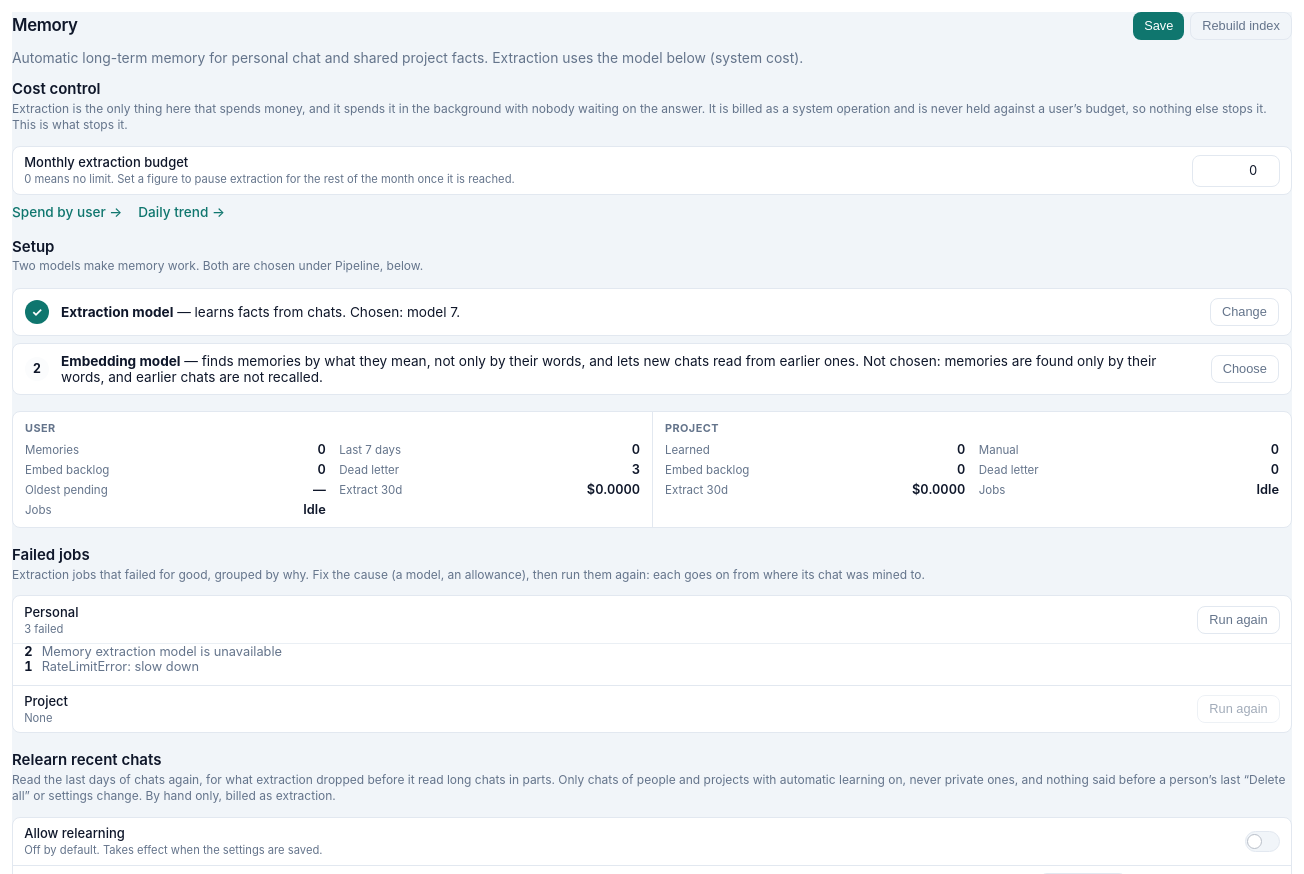
Scenario: the failed jobs › says why they failed and runs a scope's jobs again
Expected: the button "Run again" in the row of "None" is disabled, top-left (1197, 695), bottom-right (1280, 723)
What coordinates should you click on to do the following:
click the button "Run again" in the row of "3 failed"
I would click on:
 (1238, 620)
Its box is top-left (1197, 606), bottom-right (1280, 634).
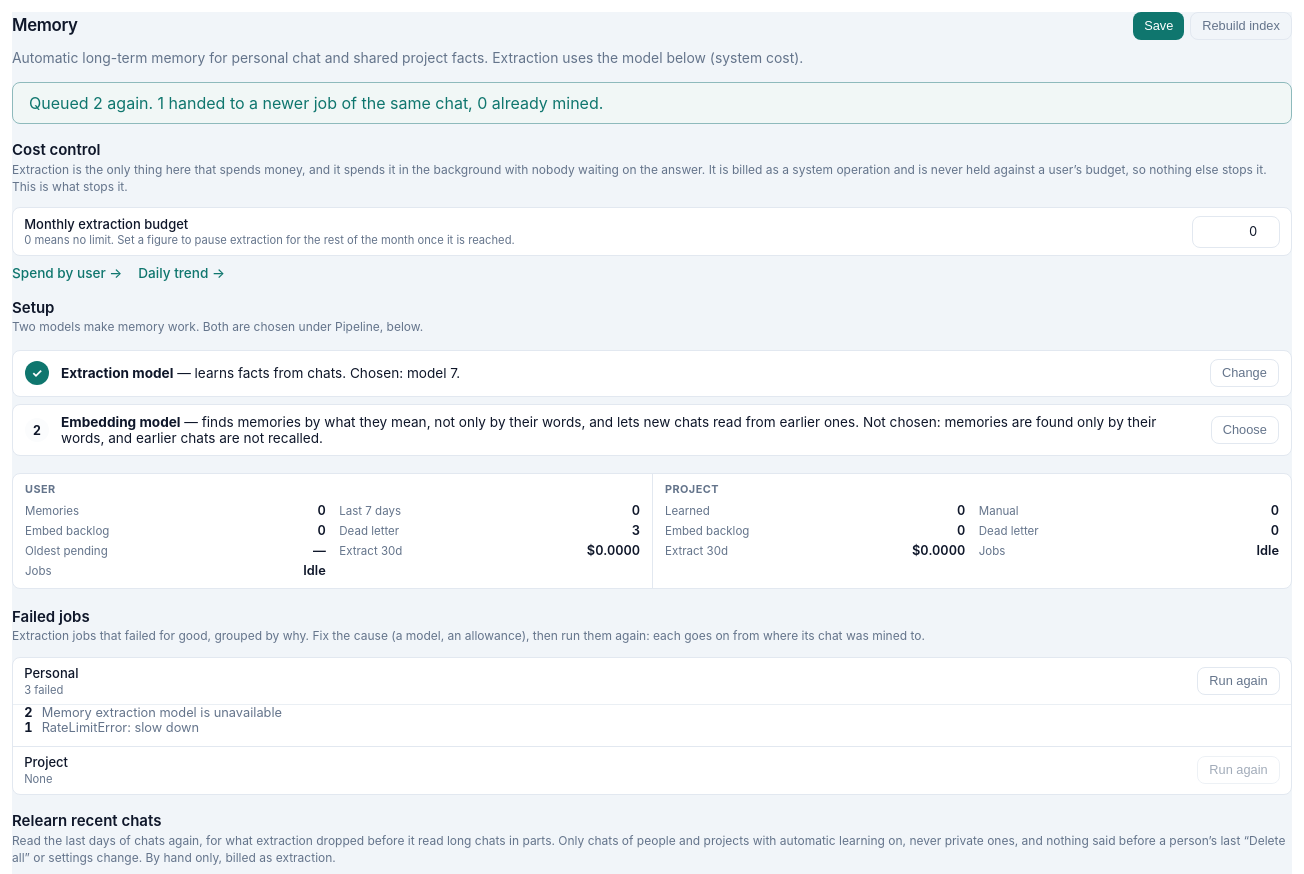
Now the text with class "alert-success" shows "Queued 2 again", box top-left (29, 93), bottom-right (603, 113)
